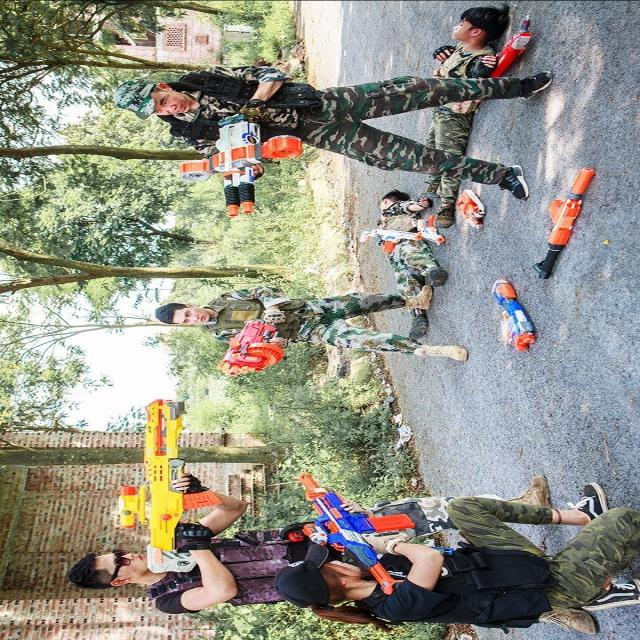Nerf gun: (117, 395, 224, 579), (286, 470, 428, 602), (174, 106, 306, 220), (529, 164, 611, 284), (480, 277, 551, 355), (212, 316, 290, 384), (478, 15, 537, 85), (442, 184, 492, 233), (360, 224, 422, 254), (409, 213, 448, 244)
